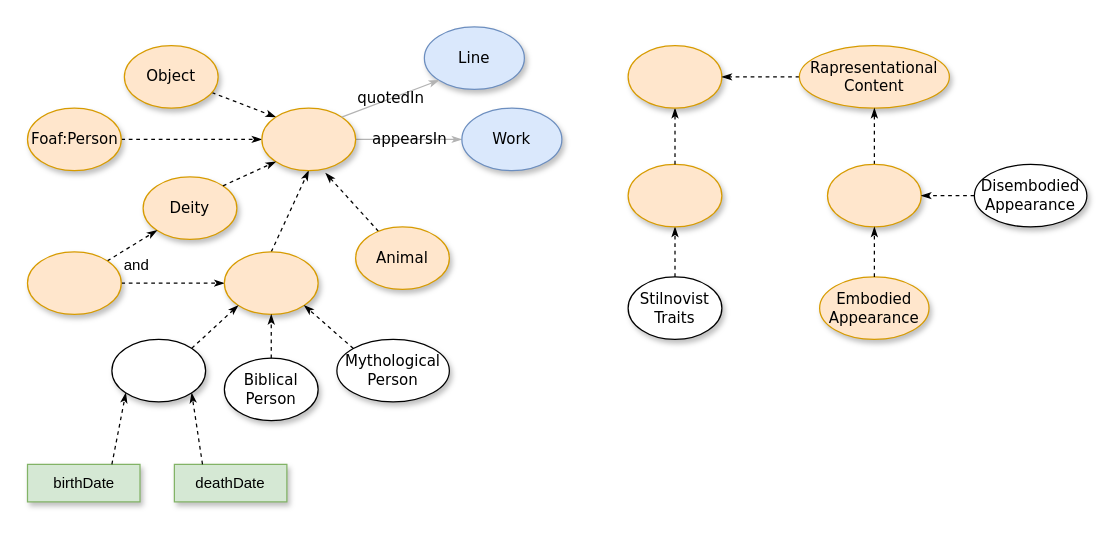
Image size: 1116x533. Some labels were removed from this diagram. The shapes that lost their labels are listed below. From the top down, each one's centre as x and y in pixels, then its label:
At pixel 675 78: "Content".
At pixel 309 140: "Entity".
At pixel 675 197: "Signified Concept".
At pixel 875 197: "Appearance".
At pixel 75 284: "Demigod".
At pixel 272 284: "Person".
At pixel 159 372: "Historical Person".
